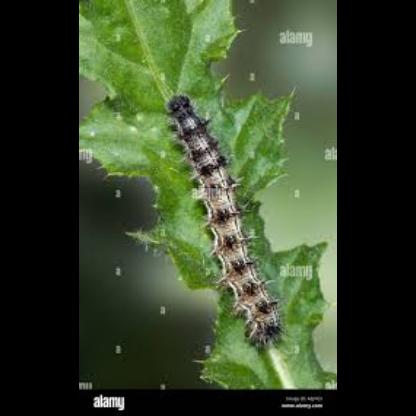oruga: (165, 82, 293, 350)
